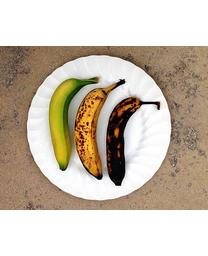banana: (74, 79, 125, 181), (106, 95, 159, 187), (49, 74, 97, 172)
